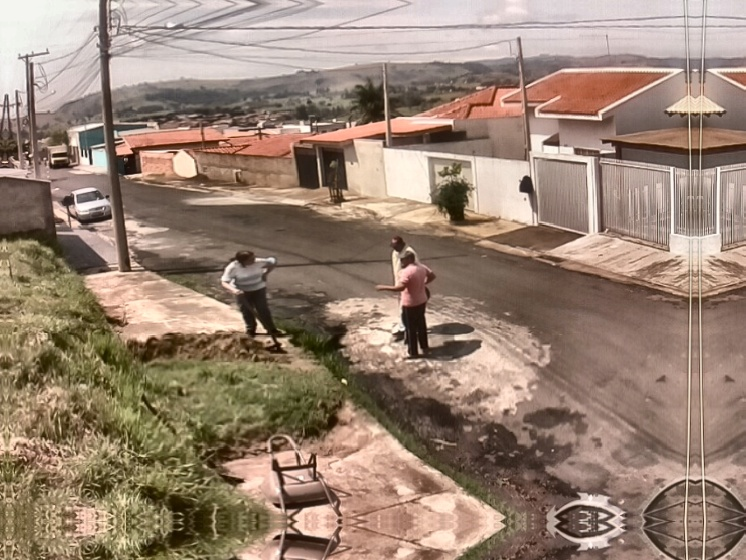person: (375, 251, 436, 361), (217, 250, 285, 338), (389, 237, 419, 274)
